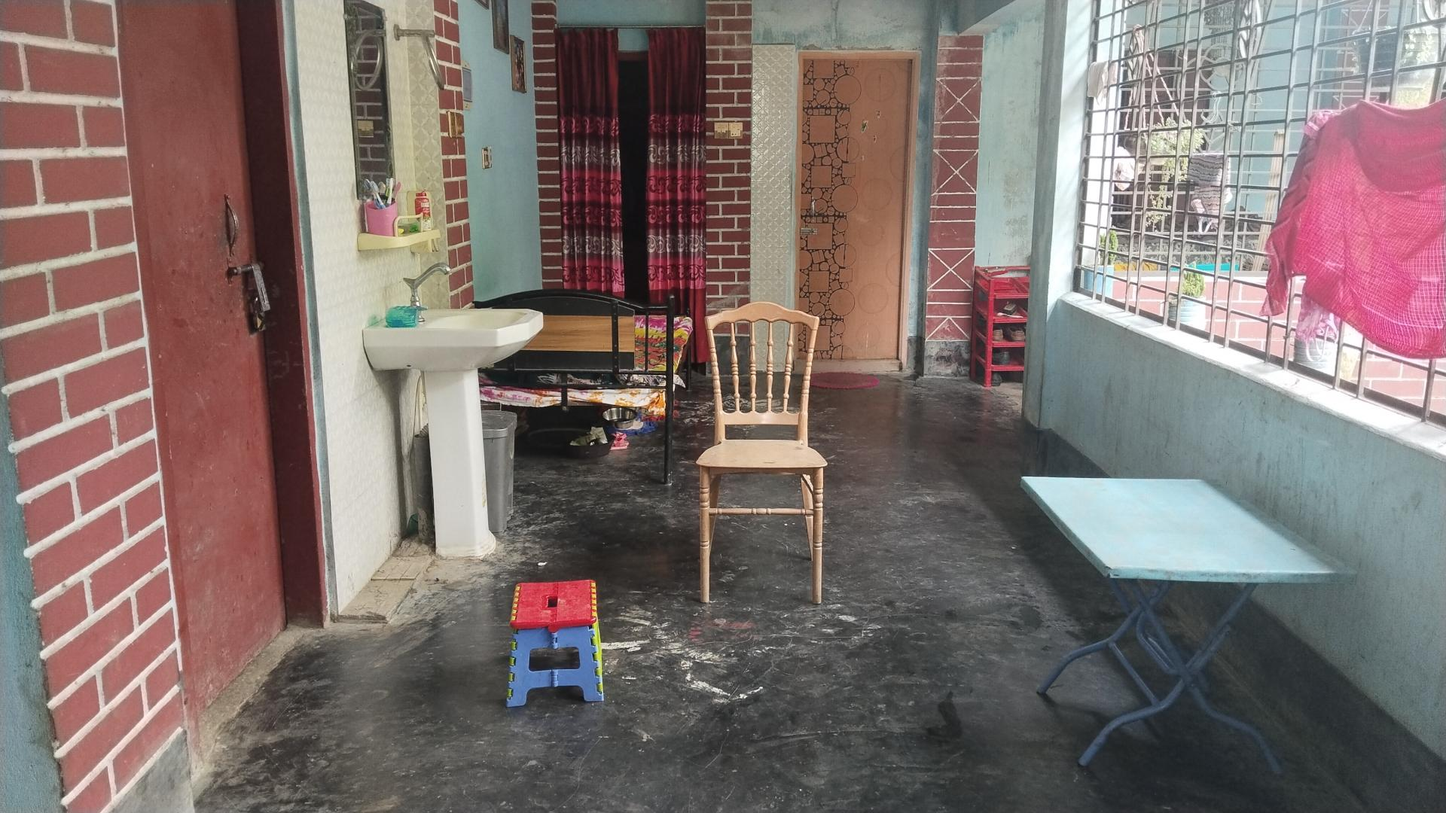Chair: (701, 306, 824, 596)
Door: (795, 52, 911, 361)
Stool: (510, 582, 606, 699)
Table: (1021, 476, 1353, 770)
